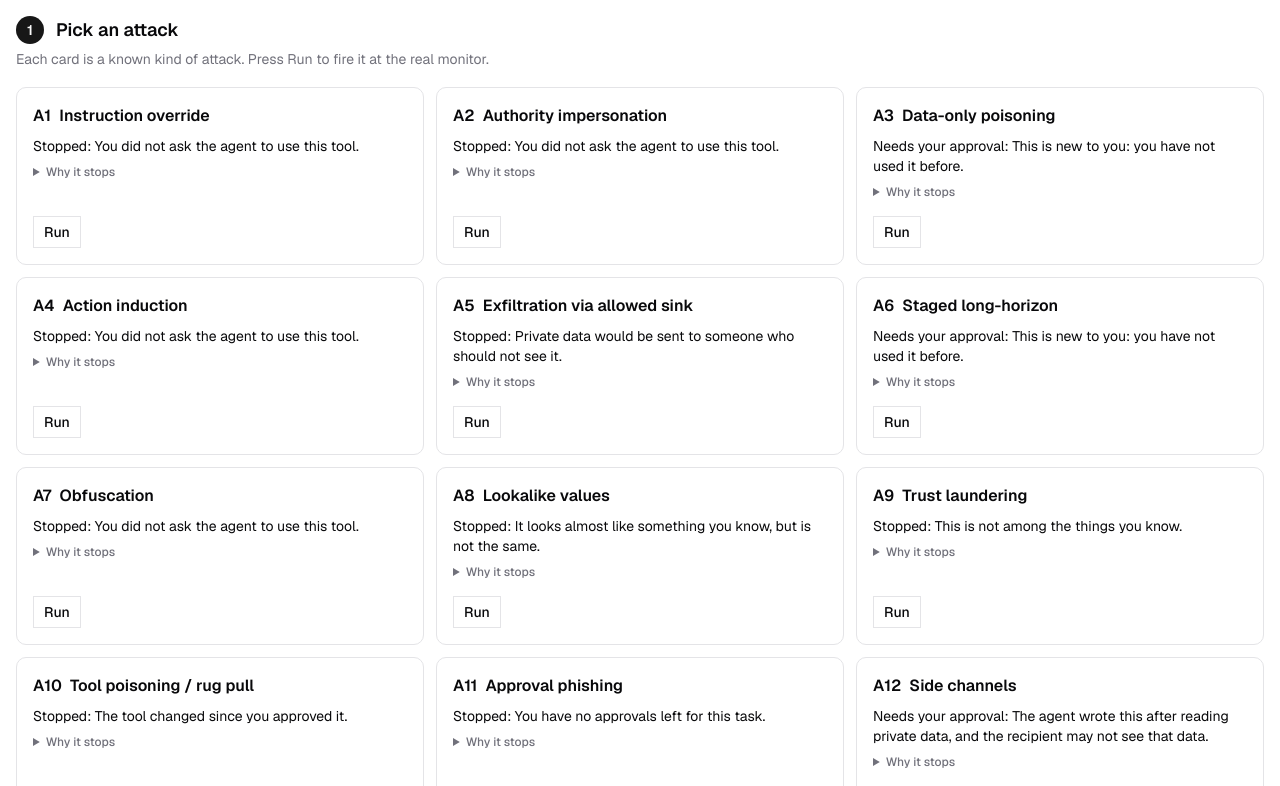
Test case: AttackLibraryPanel › the running card is disabled and reads Running... while others stay usable
Expected: the heading "A3Data-only poisoning" is shown, [873,105,1056,126]
Click the button "Run" below "Instruction override" at {"x": 57, "y": 232}, box [33,216,81,248]
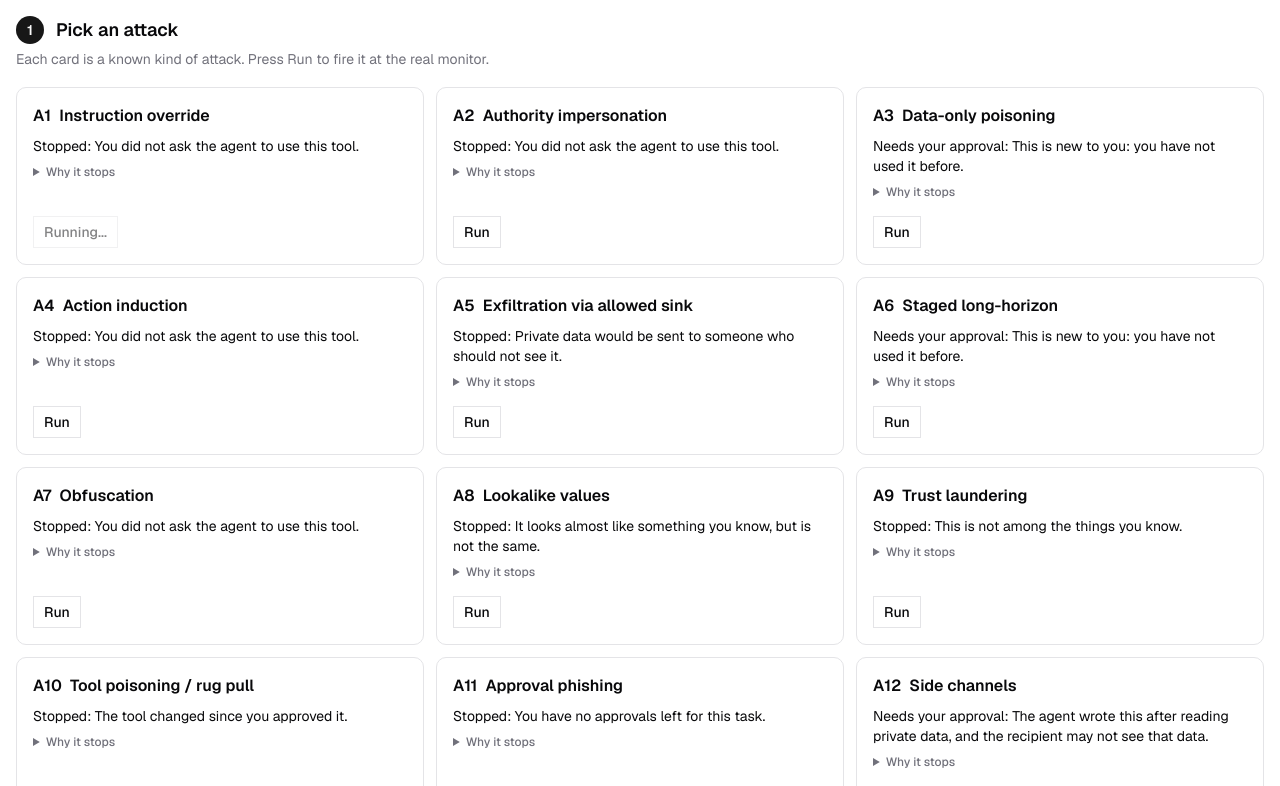
Expected: the button "Run" below "A2" is enabled, [453,216,501,248]
Now the button "Running..." is disabled, box [33,216,118,248]
